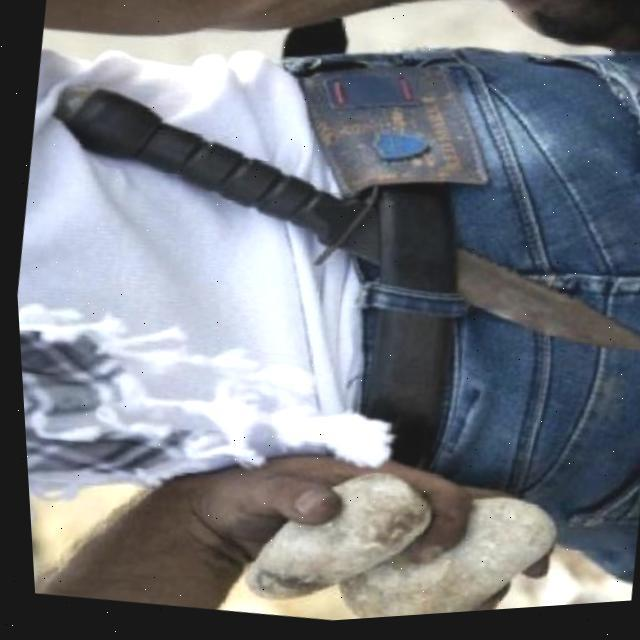knife: (26, 50, 640, 392)
